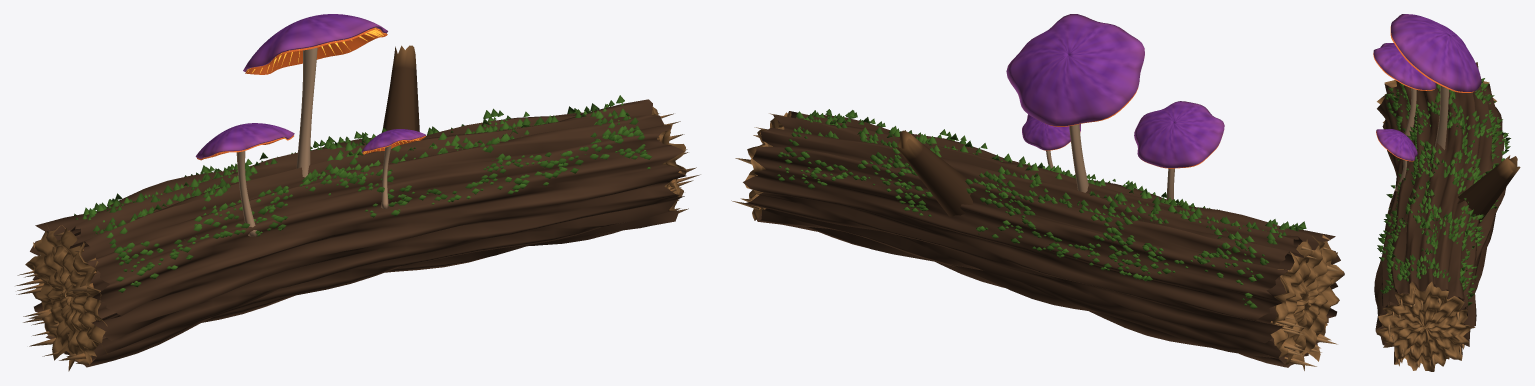
The model's file is log-with-mushrooms.glb.
3 renders of one model, left to right at view 1: azimuth 30°, elevation 25°; view 2: azimuth 150°, elevation 25°; view 3: azimuth 270°, elevation 25°, orthographic. The views are drawn at different scales.
Visible parts, largest first — view 1: Deep_Furrowed_Bark, Moss_Cushions, Splintered_End_0, Cap_Hero.003, Snapped_Branch, Cap_Companion.003, Underside_Hero.003, Stem_Hero.003, Torn_Wood_Fibres, Stem_Companion.003, Cap_Young.003, Splintered_End_1; view 2: Deep_Furrowed_Bark, Moss_Cushions, Cap_Hero.003, Splintered_End_0, Cap_Companion.003, Snapped_Branch, Cap_Young.003, Torn_Wood_Fibres, Stem_Hero.003, Splintered_End_1; view 3: Deep_Furrowed_Bark, Moss_Cushions, Splintered_End_1, Cap_Hero.003, Snapped_Branch, Cap_Companion.003, Cap_Young.003, Stem_Hero.003, Torn_Wood_Fibres, Stem_Companion.003, Underside_Hero.003, Splintered_End_0.
Part boxes in pixels (<box>): Deep_Furrowed_Bark: <box>30,99,686,367</box>; Moss_Cushions: <box>74,95,652,292</box>; Splintered_End_0: <box>25,223,107,371</box>; Cap_Hero.003: <box>243,14,387,71</box>; Snapped_Branch: <box>383,45,419,131</box>; Cap_Companion.003: <box>195,123,294,158</box>; Underside_Hero.003: <box>245,27,387,74</box>; Stem_Hero.003: <box>296,47,317,177</box>; Torn_Wood_Fibres: <box>16,113,700,365</box>; Stem_Companion.003: <box>236,151,257,236</box>; Cap_Young.003: <box>361,129,425,152</box>; Splintered_End_1: <box>651,106,686,210</box>; Deep_Furrowed_Bark: <box>743,111,1340,367</box>; Moss_Cushions: <box>775,109,1306,308</box>; Cap_Hero.003: <box>1006,14,1144,126</box>; Splintered_End_0: <box>1268,235,1344,370</box>; Cap_Companion.003: <box>1134,101,1224,167</box>; Snapped_Branch: <box>896,130,972,216</box>; Cap_Young.003: <box>1022,114,1080,150</box>; Torn_Wood_Fibres: <box>731,113,1340,366</box>; Stem_Hero.003: <box>1069,124,1088,192</box>; Splintered_End_1: <box>745,111,791,220</box>; Deep_Furrowed_Bark: <box>1374,62,1506,363</box>; Moss_Cushions: <box>1377,78,1510,305</box>; Splintered_End_1: <box>1375,281,1475,371</box>; Cap_Hero.003: <box>1391,14,1481,91</box>; Snapped_Branch: <box>1457,155,1520,223</box>; Cap_Companion.003: <box>1373,43,1436,89</box>; Cap_Young.003: <box>1376,129,1417,160</box>; Stem_Hero.003: <box>1434,85,1448,149</box>; Torn_Wood_Fibres: <box>1387,287,1464,367</box>; Stem_Companion.003: <box>1404,88,1416,135</box>; Underside_Hero.003: <box>1390,26,1473,92</box>; Splintered_End_0: <box>1377,80,1496,123</box>.
Bounding box in the file's own units: 1.26 × 0.5565 × 0.323.
